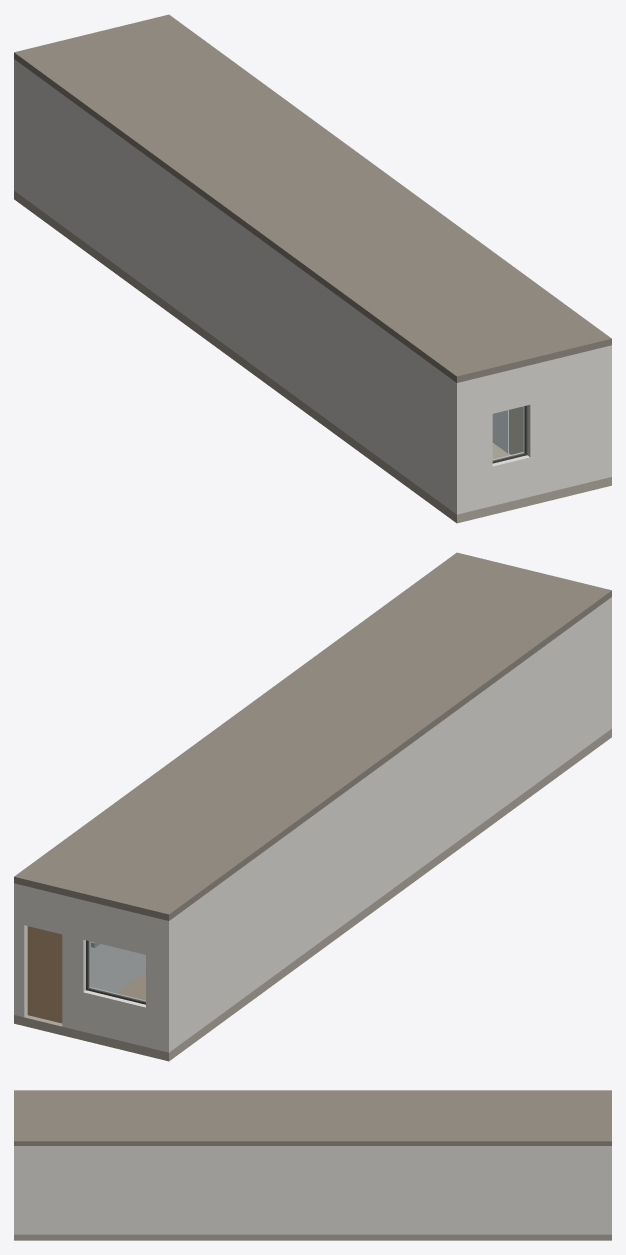
File: plan.glb
The picture shows the model from 3 angles, top to bottom: view 1: azimuth 30°, elevation 25°; view 2: azimuth 150°, elevation 25°; view 3: azimuth 270°, elevation 25°; orthographic projection. The views are drawn at different scales.
Parts seen in each view (by area): view 1: roof:roof, wall:w_west, wall:w_back, slab:slab, wall:w_east, window:win_office:glass; view 2: roof:roof, wall:w_west, wall:w_street, slab:slab, door:d_front, window:win_living:glass, wall:w_hall, wall:w_east; view 3: wall:w_east, roof:roof, slab:slab.
Part boxes in pixels (box(x1,y1,x2,y2)): roof:roof: box(14, 14, 611, 382); wall:w_west: box(14, 59, 469, 514); wall:w_back: box(469, 348, 599, 511); slab:slab: box(14, 191, 611, 523); wall:w_east: box(599, 345, 611, 479); window:win_office:glass: box(493, 406, 524, 460); roof:roof: box(14, 552, 611, 920); wall:w_west: box(156, 597, 611, 1052); wall:w_street: box(24, 886, 156, 1049); slab:slab: box(14, 729, 611, 1061); door:d_front: box(27, 926, 62, 1023); window:win_living:glass: box(88, 941, 145, 1001); wall:w_hall: box(90, 941, 145, 992); wall:w_east: box(14, 883, 27, 1017); wall:w_east: box(14, 1146, 611, 1234); roof:roof: box(14, 1090, 611, 1145); slab:slab: box(14, 1234, 611, 1240).
Size of the model in its own units: 3.7 by 3.35 by 18.3.
